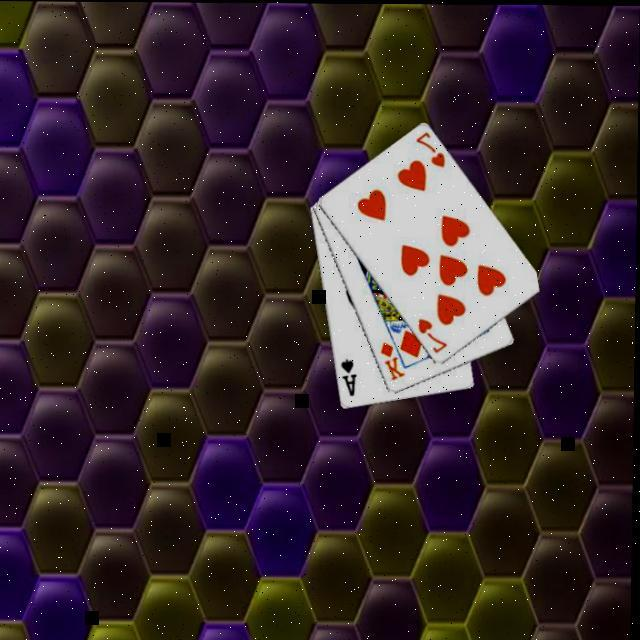7H: (412, 126, 448, 168), (414, 314, 450, 354)
AS: (337, 354, 360, 397)
KD: (377, 337, 408, 381)
